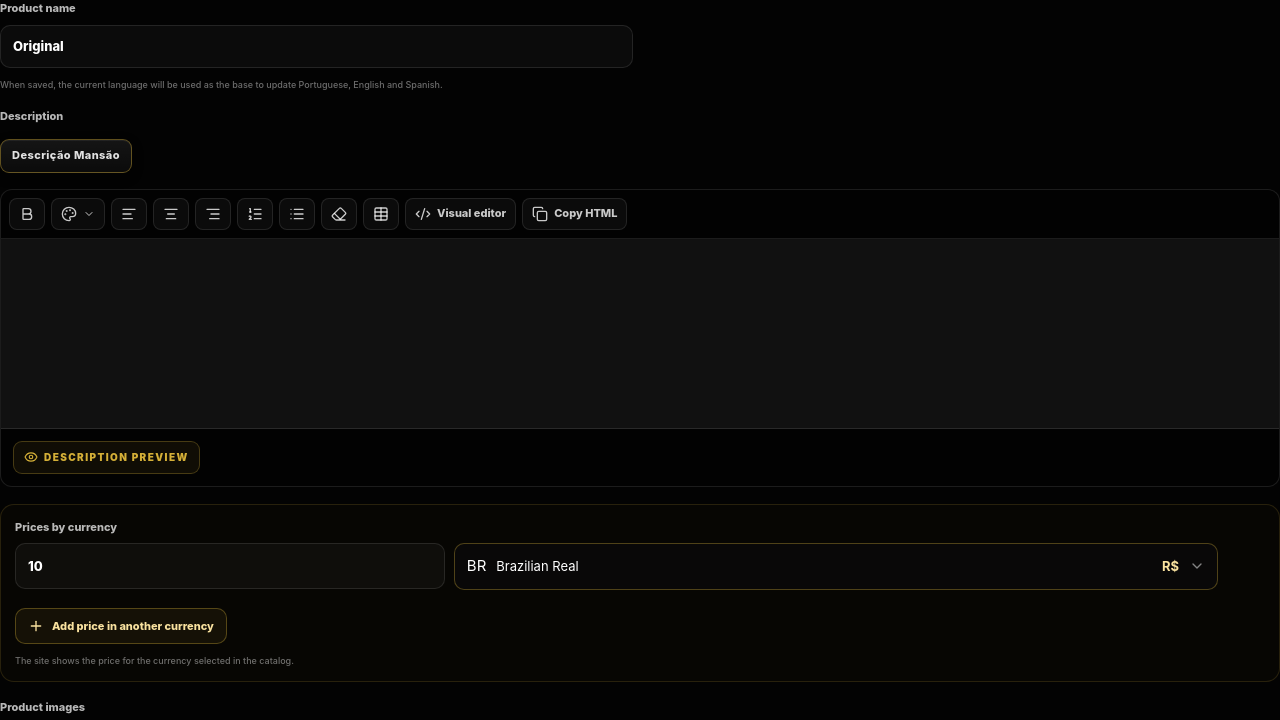
catalog edit conflicts › keeps the product draft open when the server reports EDIT_CONFLICT
Replace the text in the 1st field with "Meu rascunho" at [316, 46], box [0,24,633,68]
(page scrolled)
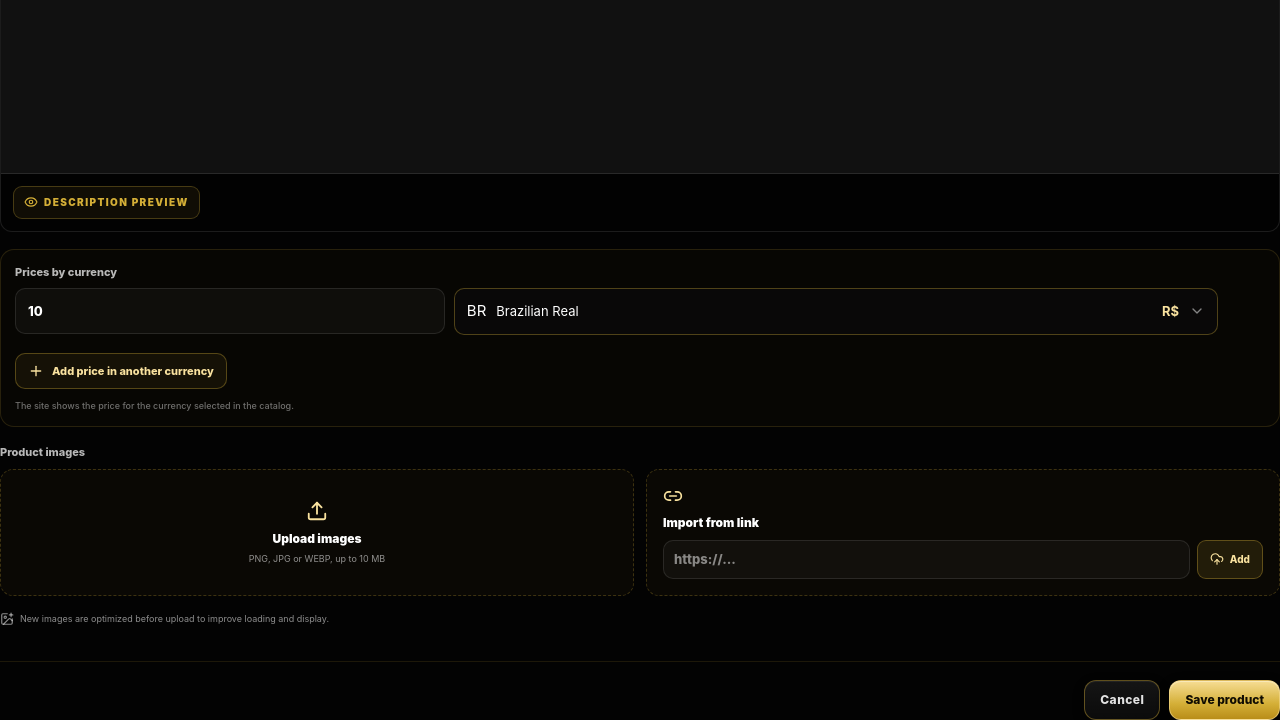
Click the button "Save product".
click(1225, 700)  # box [1169,680,1279,719]
(page scrolled)
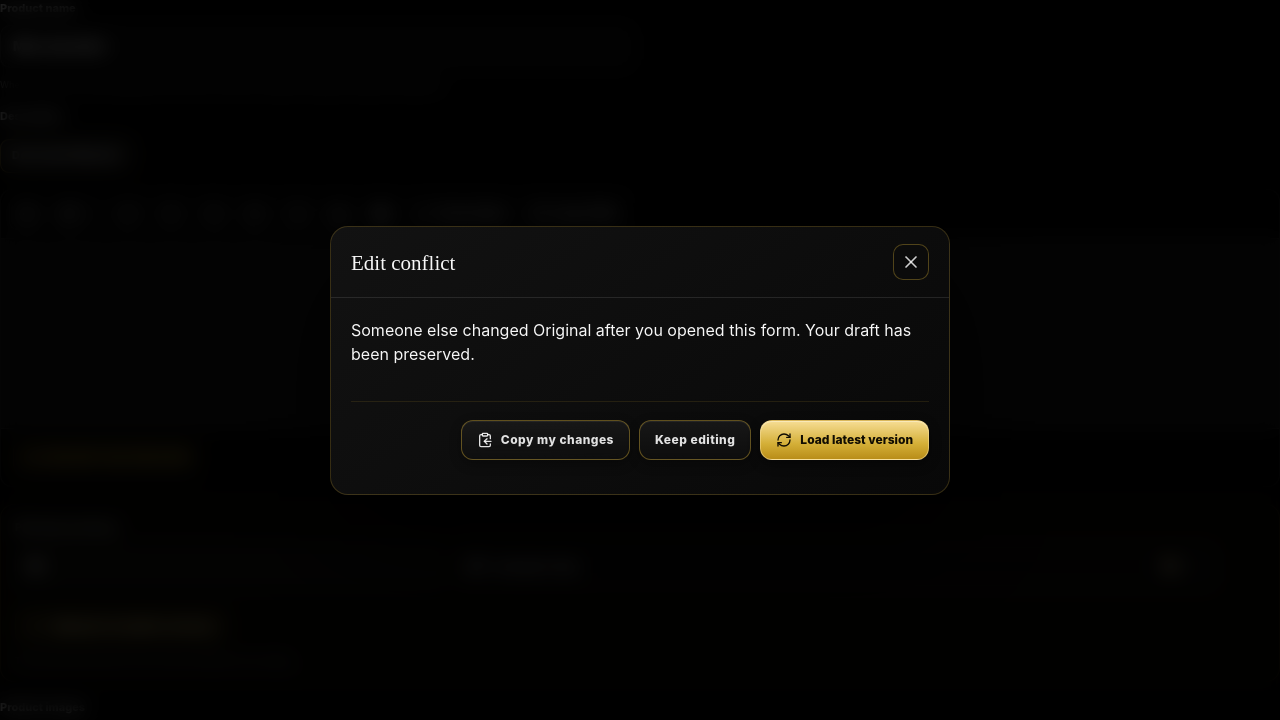
Check: the dialog "Edit conflict" is shown, box [330,226,950,494]
